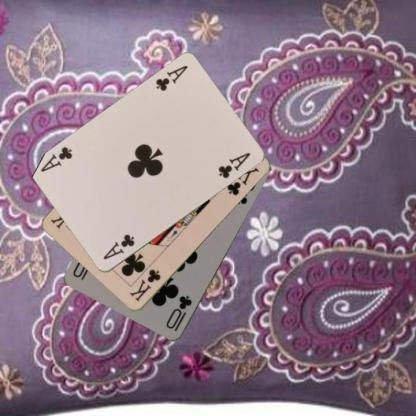10c: (164, 293, 193, 333)
Ac: (152, 63, 189, 93), (100, 232, 136, 261)
Kc: (126, 267, 162, 303)
